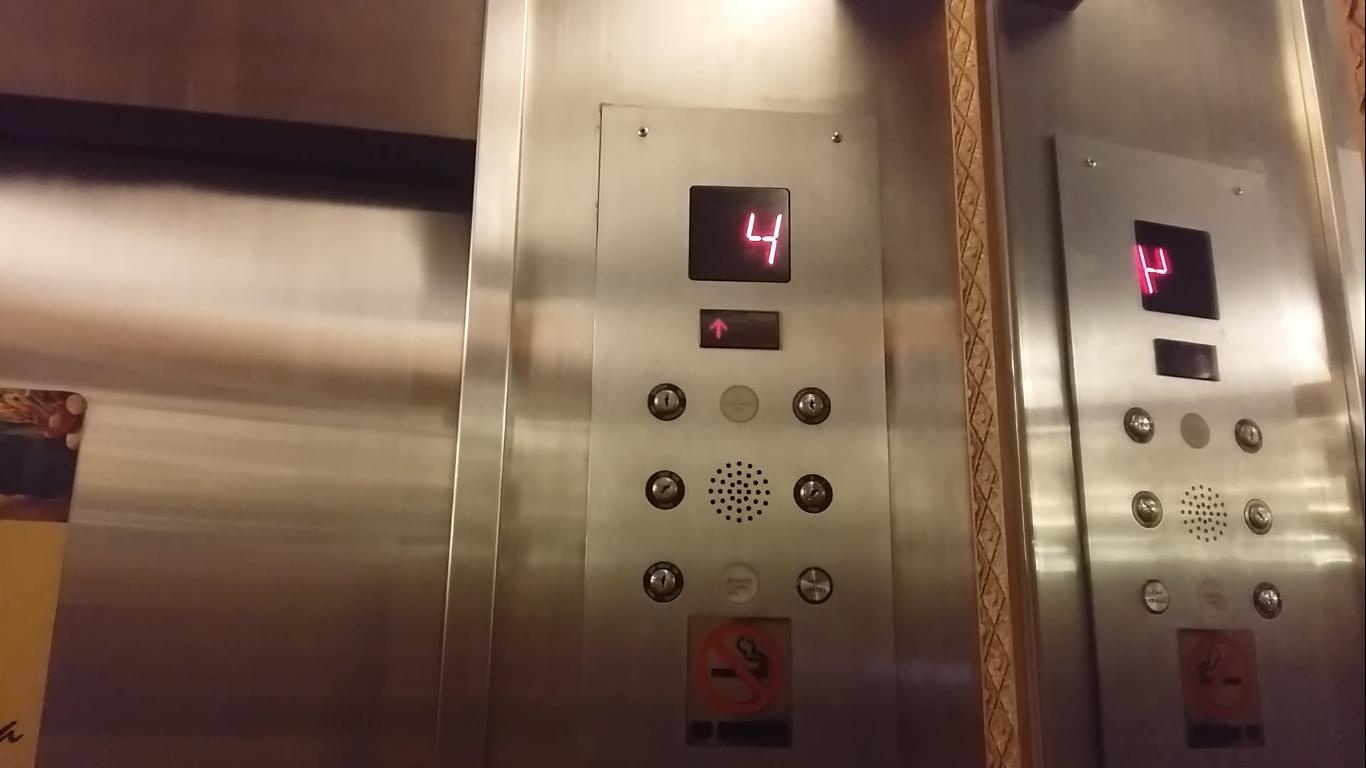keyhole: (644, 380, 689, 424), (789, 383, 834, 427), (789, 471, 834, 515), (641, 468, 686, 512), (640, 559, 685, 603), (1117, 403, 1162, 447), (1227, 415, 1272, 459), (1125, 487, 1170, 531), (1235, 495, 1280, 539), (1245, 578, 1290, 622)
led: (684, 181, 798, 287), (1130, 216, 1224, 325), (696, 306, 784, 353), (1150, 334, 1224, 386)
text_blur: (792, 564, 836, 606), (1135, 575, 1179, 617)
